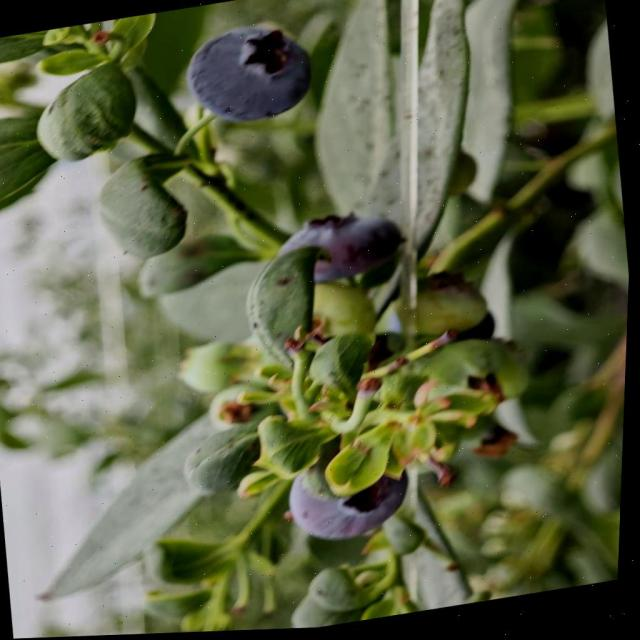RipeBlueBerry: (180, 19, 320, 134), (286, 447, 421, 552), (276, 206, 410, 292)
